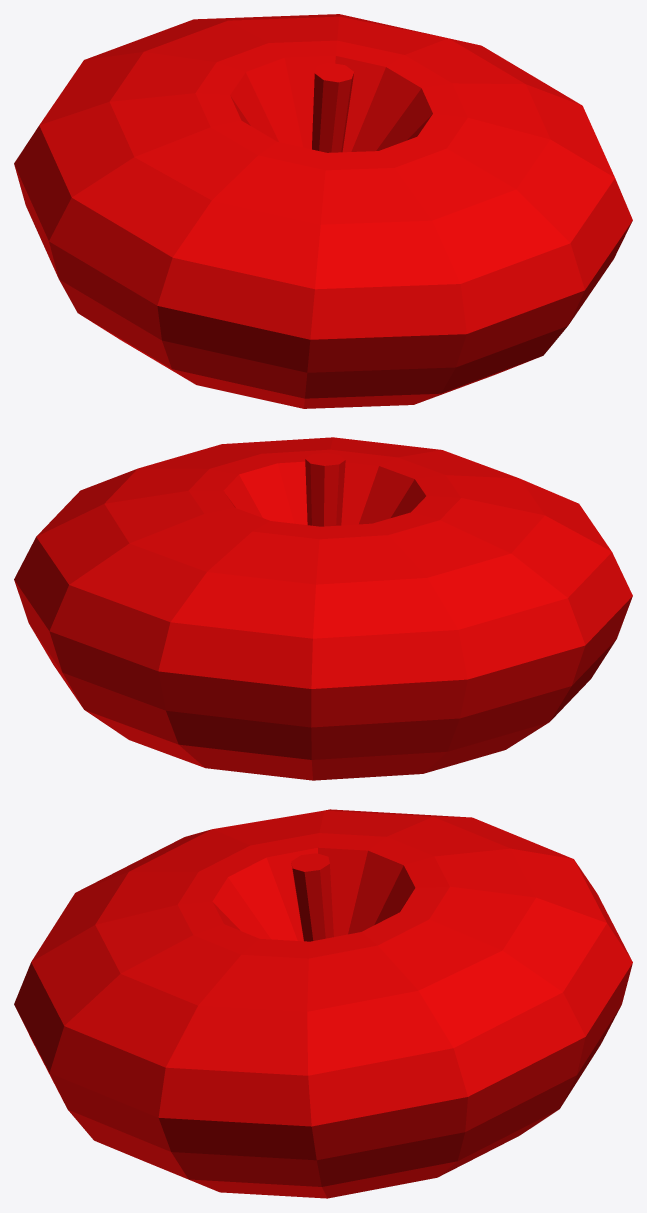
File: Apple_Success 1.fbx
3 renders of one model, top to bottom at view 1: azimuth 30°, elevation 25°; view 2: azimuth 150°, elevation 25°; view 3: azimuth 270°, elevation 25°, orthographic.
Visible parts, largest first — view 1: Apple_Success; view 2: Apple_Success; view 3: Apple_Success.
Boxes of the visible parts, x1,y1,x2,y2 form: Apple_Success: (14,14,632,408); Apple_Success: (14,437,632,780); Apple_Success: (14,809,632,1198).
Bounding box in the file's own units: 18.44 × 9.15 × 18.38.
